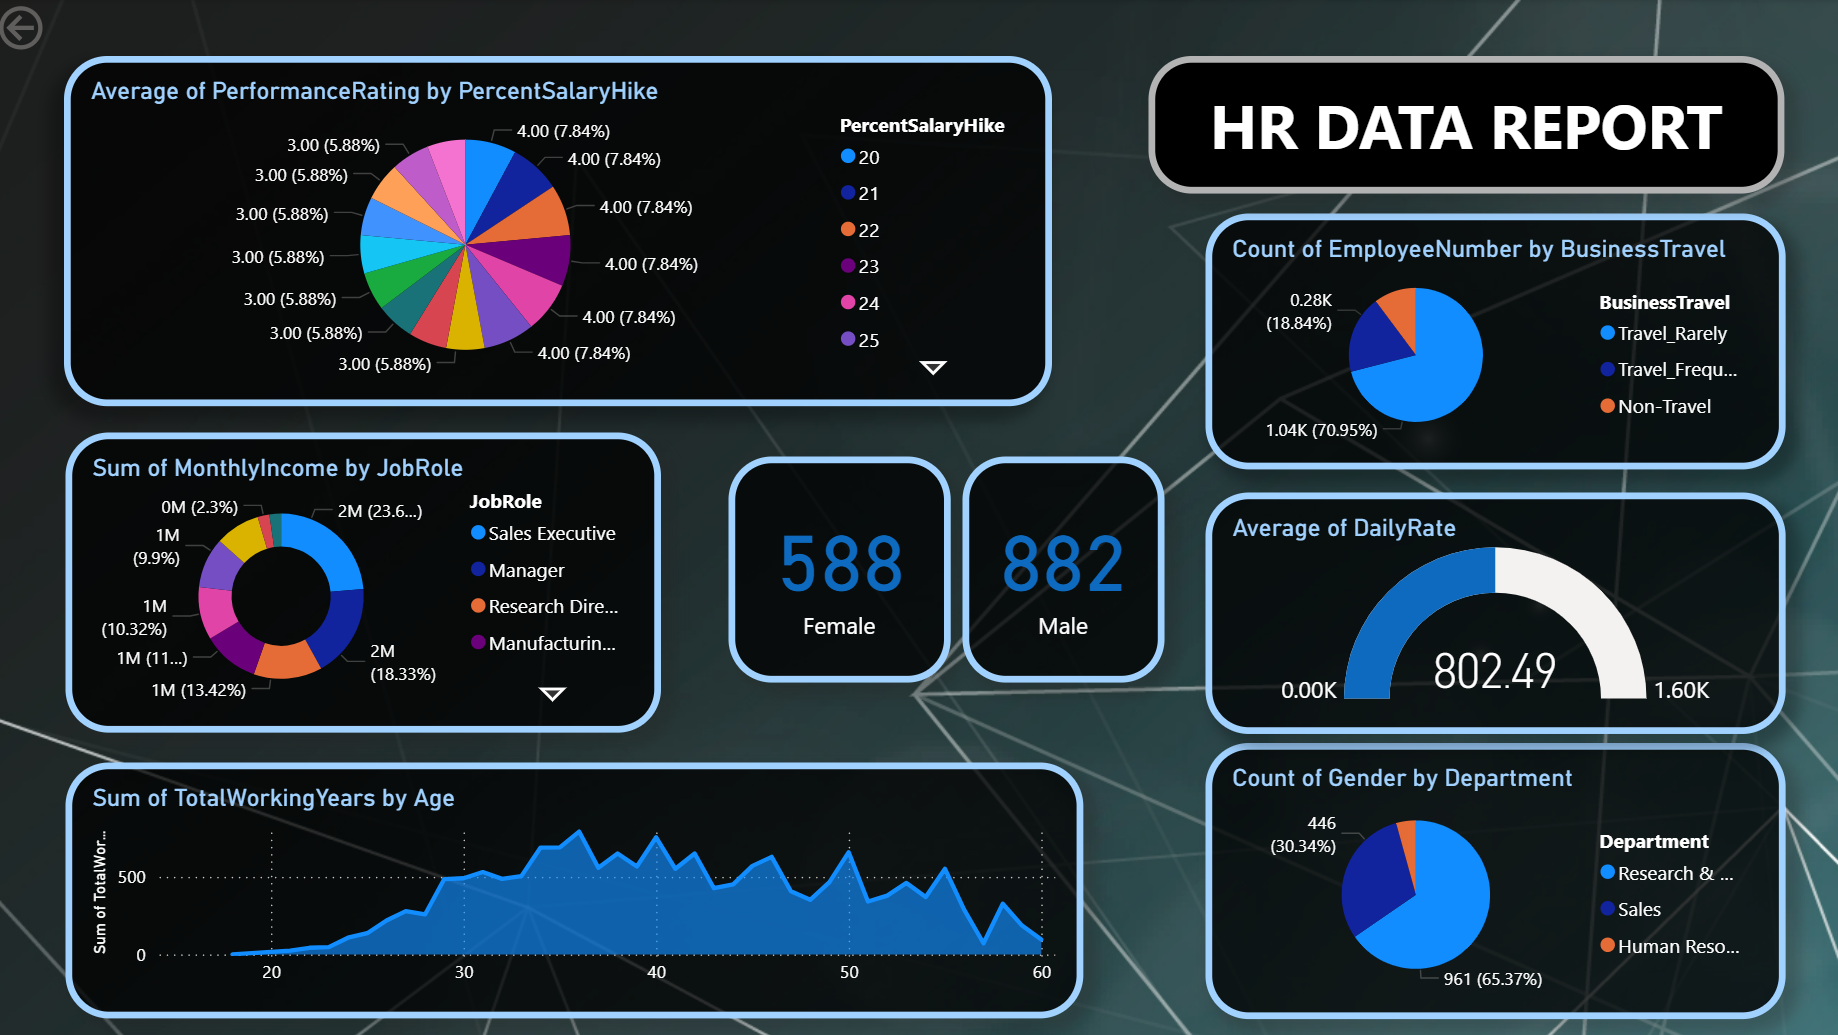

What the dashboard file says about the page in this screenshot:
{"tool":"powerbi","page":{"name":"Page 1","canvas":[1280,720],"ordinal":0},"visuals":[{"type":"actionButton","box":[0,0,100,40],"z":0},{"type":"pieChart","fields":{"Category":["Hr Data for home work.Department"],"Y":["CountNonNull(Hr Data for home work.Gender)"]},"box":[840.5,515.3,402.2,191.5],"z":1000},{"type":"pieChart","fields":{"Y":["Avg(Hr Data for home work.PerformanceRating)"],"Category":["Hr Data for home work.PercentSalaryHike"]},"box":[50.1,39.8,685,242.9],"z":2000},{"type":"donutChart","fields":{"Category":["Hr Data for home work.JobRole"],"Y":["Sum(Hr Data for home work.MonthlyIncome)"]},"box":[51.4,300.7,412.5,208.2],"z":3000},{"type":"stackedAreaChart","fields":{"Category":["Hr Data for home work.Age"],"Y":["Sum(Hr Data for home work.TotalWorkingYears)"]},"box":[51.4,529.5,705.5,177.3],"z":4000},{"type":"card","fields":{"Values":["CountNonNull(Hr Data for home work.Gender)"]},"box":[510.2,317.4,154.2,156.8],"z":5000},{"type":"card","fields":{"Values":["CountNonNull(Hr Data for home work.Gender)"]},"box":[672.1,317.4,140.1,156.8],"z":6001},{"type":"pieChart","fields":{"Category":["Hr Data for home work.BusinessTravel"],"Y":["CountNonNull(Hr Data for home work.EmployeeNumber)"]},"box":[840.5,149.1,402.2,177.3],"z":6002},{"type":"gauge","fields":{"Y":["Avg(Hr Data for home work.DailyRate)"]},"box":[840.5,341.8,402.2,167.1],"z":6003},{"type":"textbox","box":[801.9,39.8,440.8,95.1],"z":6004}]}

Visuals, with their boxes in screenshot pixels (x1, y1, x2, y2), scaled from the page's 1280x720 canvas onto the 1838x1035 screenshot:
actionButton: (x1=0, y1=0, x2=144, y2=58)
pieChart - Hr Data for home work.Department x CountNonNull(Hr Data for home work.Gender): (x1=1207, y1=741, x2=1784, y2=1016)
pieChart - Avg(Hr Data for home work.PerformanceRating) x Hr Data for home work.PercentSalaryHike: (x1=72, y1=57, x2=1056, y2=406)
donutChart - Hr Data for home work.JobRole x Sum(Hr Data for home work.MonthlyIncome): (x1=74, y1=432, x2=666, y2=732)
stackedAreaChart - Hr Data for home work.Age x Sum(Hr Data for home work.TotalWorkingYears): (x1=74, y1=761, x2=1087, y2=1016)
card - CountNonNull(Hr Data for home work.Gender): (x1=733, y1=456, x2=954, y2=682)
card - CountNonNull(Hr Data for home work.Gender): (x1=965, y1=456, x2=1166, y2=682)
pieChart - Hr Data for home work.BusinessTravel x CountNonNull(Hr Data for home work.EmployeeNumber): (x1=1207, y1=214, x2=1784, y2=469)
gauge - Avg(Hr Data for home work.DailyRate): (x1=1207, y1=491, x2=1784, y2=732)
textbox: (x1=1151, y1=57, x2=1784, y2=194)
